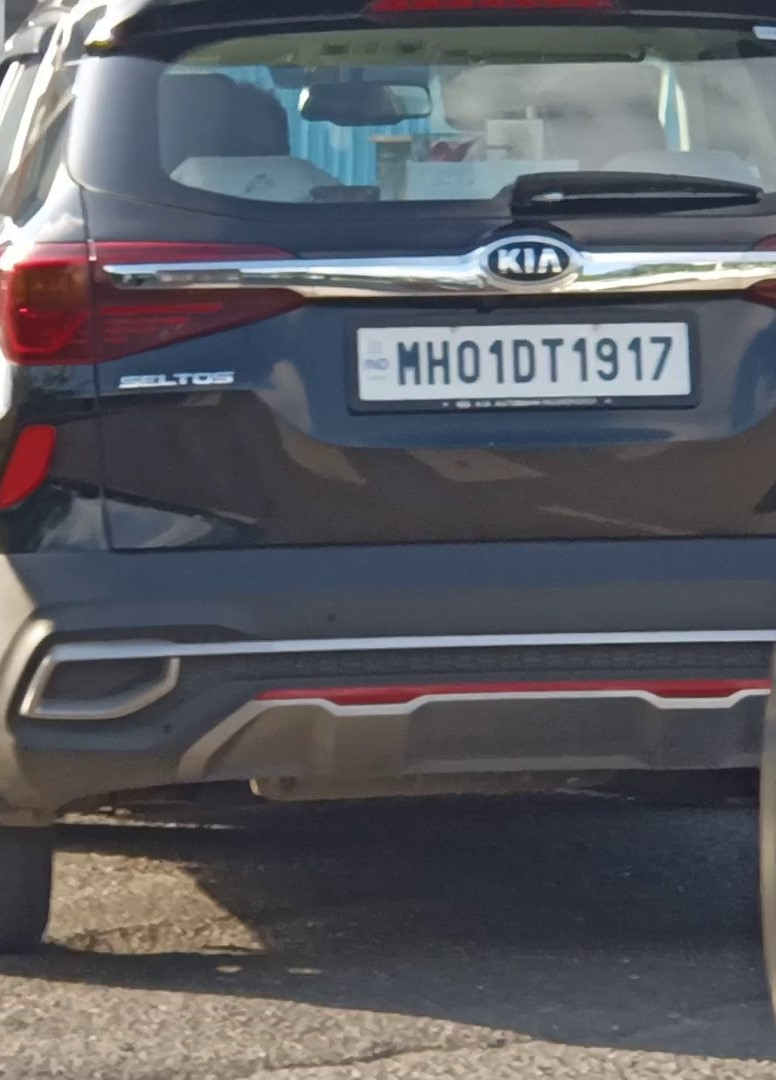MH01DT1917: (353, 323, 692, 401)
